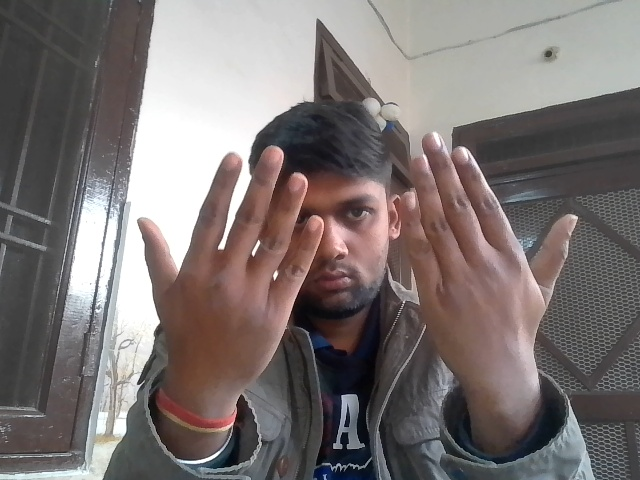ThankYou: (116, 127, 595, 399)
